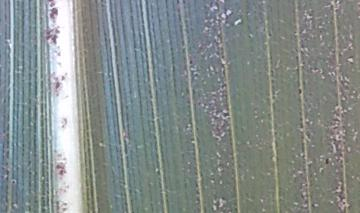tarspot: (322, 154, 332, 169), (295, 84, 304, 97)
